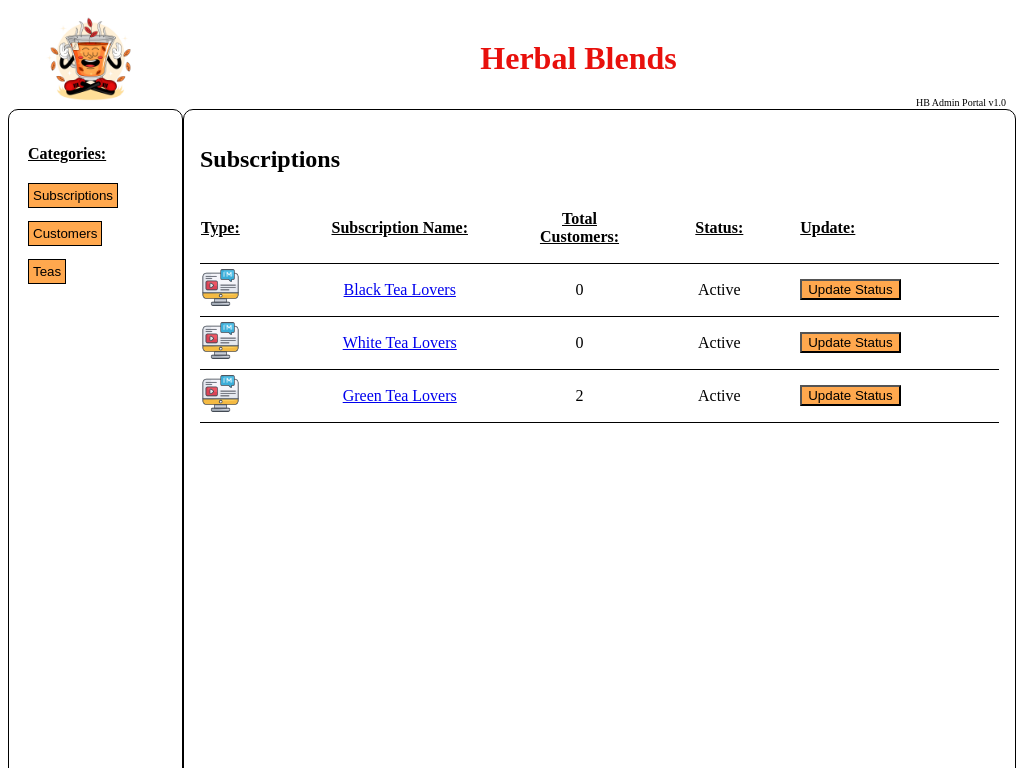
Subscriber Cards Spec › Subscription Card Funtionality › Subscription Card Status Update
Step 1. Click the button "Update Status" in the row of "Green Tea Lovers" → coordinates (851, 396), box [800,385,901,406]
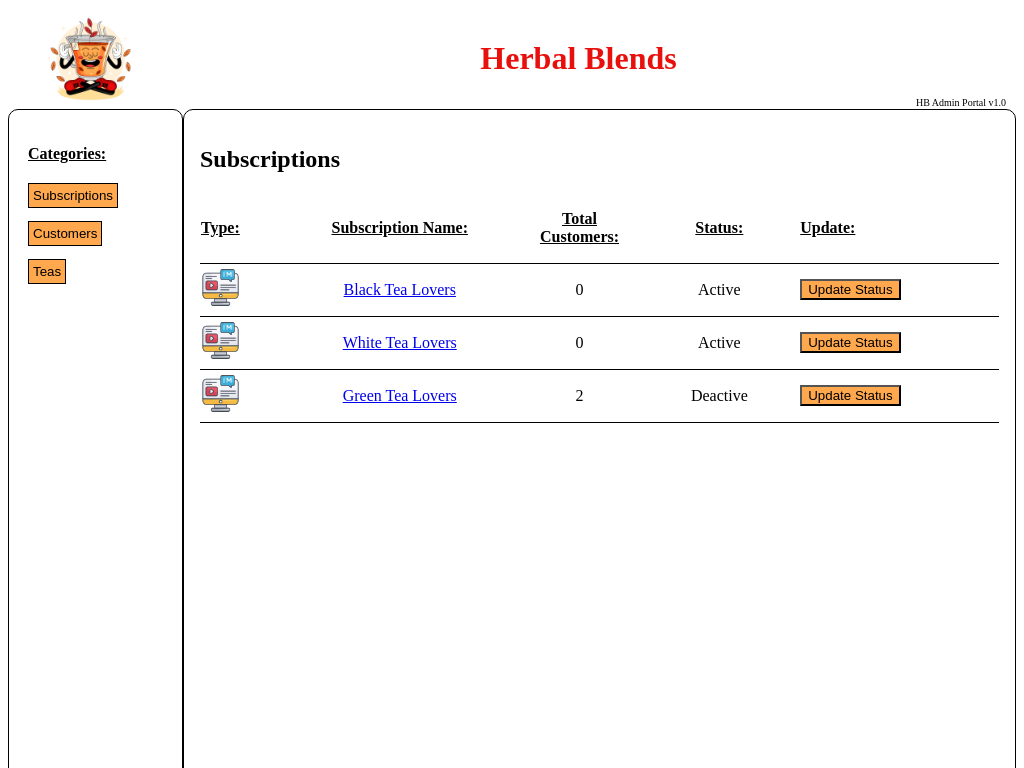
Expected: the cell with class "subStatus" showing "Status:" is shown, [639,193,799,263]
Now the text with class "subStatus" reads "Deactive", box [691,387,748,404]
